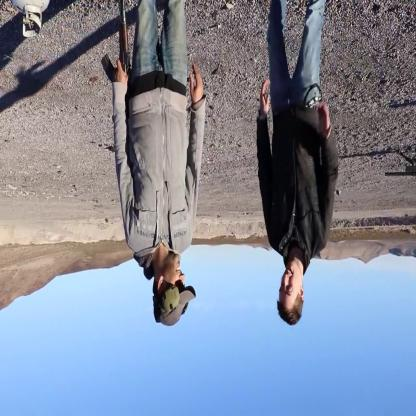long weapon: (101, 0, 134, 112)
